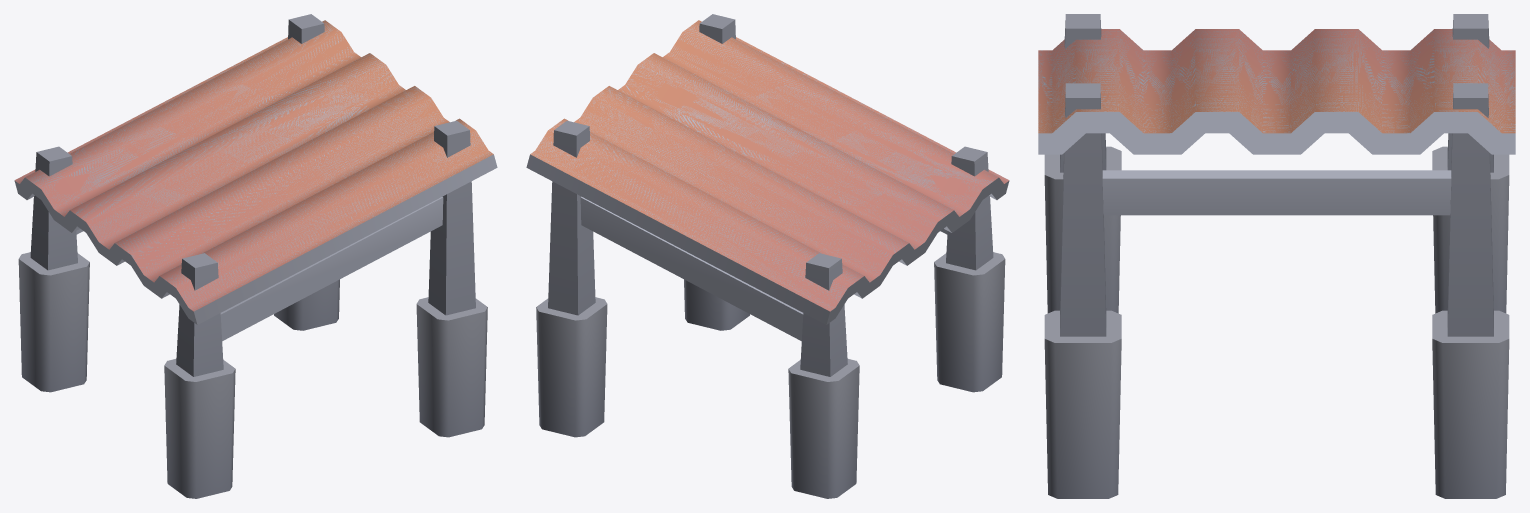
Rendered from structure-metal-roof.glb.
3 renders of one model, left to right at view 1: azimuth 30°, elevation 25°; view 2: azimuth 150°, elevation 25°; view 3: azimuth 270°, elevation 25°, orthographic. The views are drawn at different scales.
Visible parts, largest first — view 1: structure-metal-roof; view 2: structure-metal-roof; view 3: structure-metal-roof.
Part boxes in pixels (left/top/right/bottom): structure-metal-roof: left=14, top=14, right=497, bottom=498; structure-metal-roof: left=526, top=14, right=1009, bottom=498; structure-metal-roof: left=1038, top=14, right=1515, bottom=498.
Size of the model in its own units: 0.5442 by 0.5 by 0.55.
